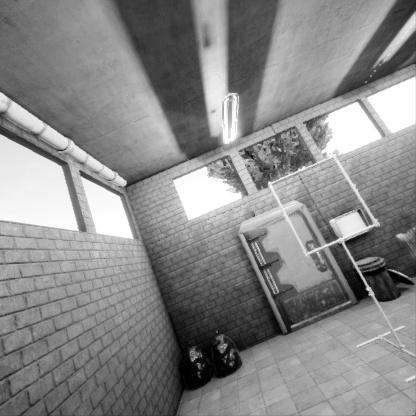gate: (267, 161, 382, 264)
